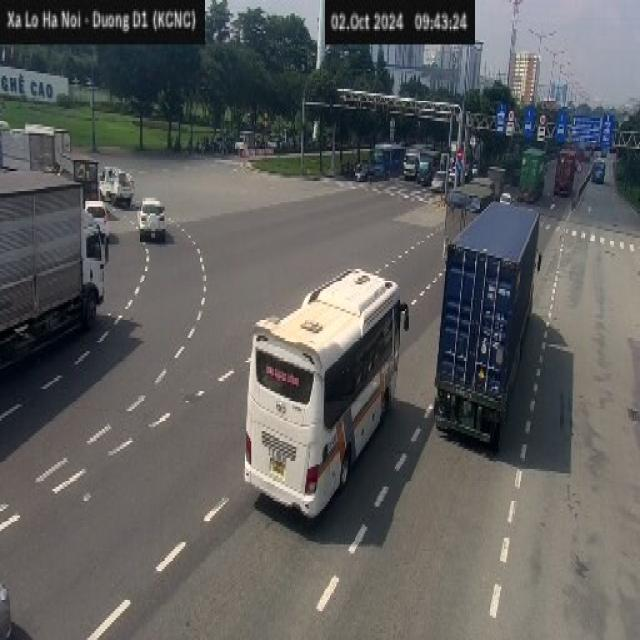bus: (242, 264, 408, 520)
car: (137, 196, 165, 240), (591, 158, 605, 182)
container-truck: (432, 198, 540, 449)
truck: (0, 167, 109, 371)
